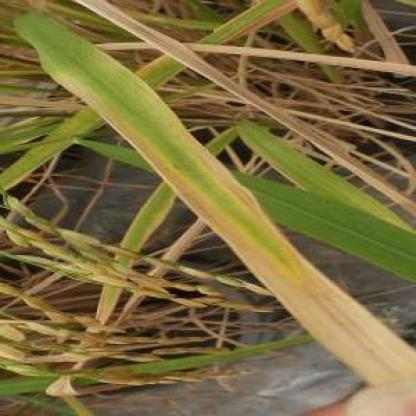Blight: (13, 5, 413, 388)
